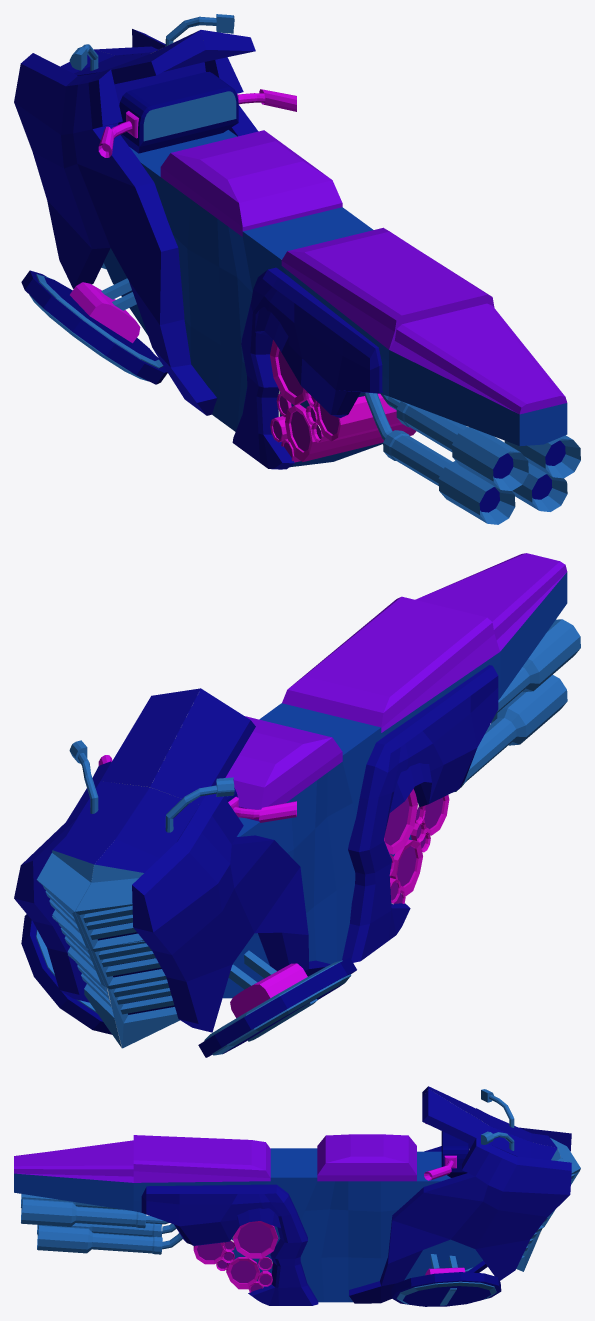
The model's file is hover_bike_low_poly.fbx.
3 renders of one model, top to bottom at view 1: azimuth 30°, elevation 25°; view 2: azimuth 150°, elevation 25°; view 3: azimuth 270°, elevation 25°, orthographic. The views are drawn at different scales.
Parts seen in each view (by area): view 1: Cube; view 2: Cube; view 3: Cube.
Boxes of the visible parts, <box> form: Cube: <box>14,14,580,524</box>; Cube: <box>14,553,580,1057</box>; Cube: <box>14,1086,580,1306</box>.
Bounding box in the file's own units: 159 × 170 × 425.
